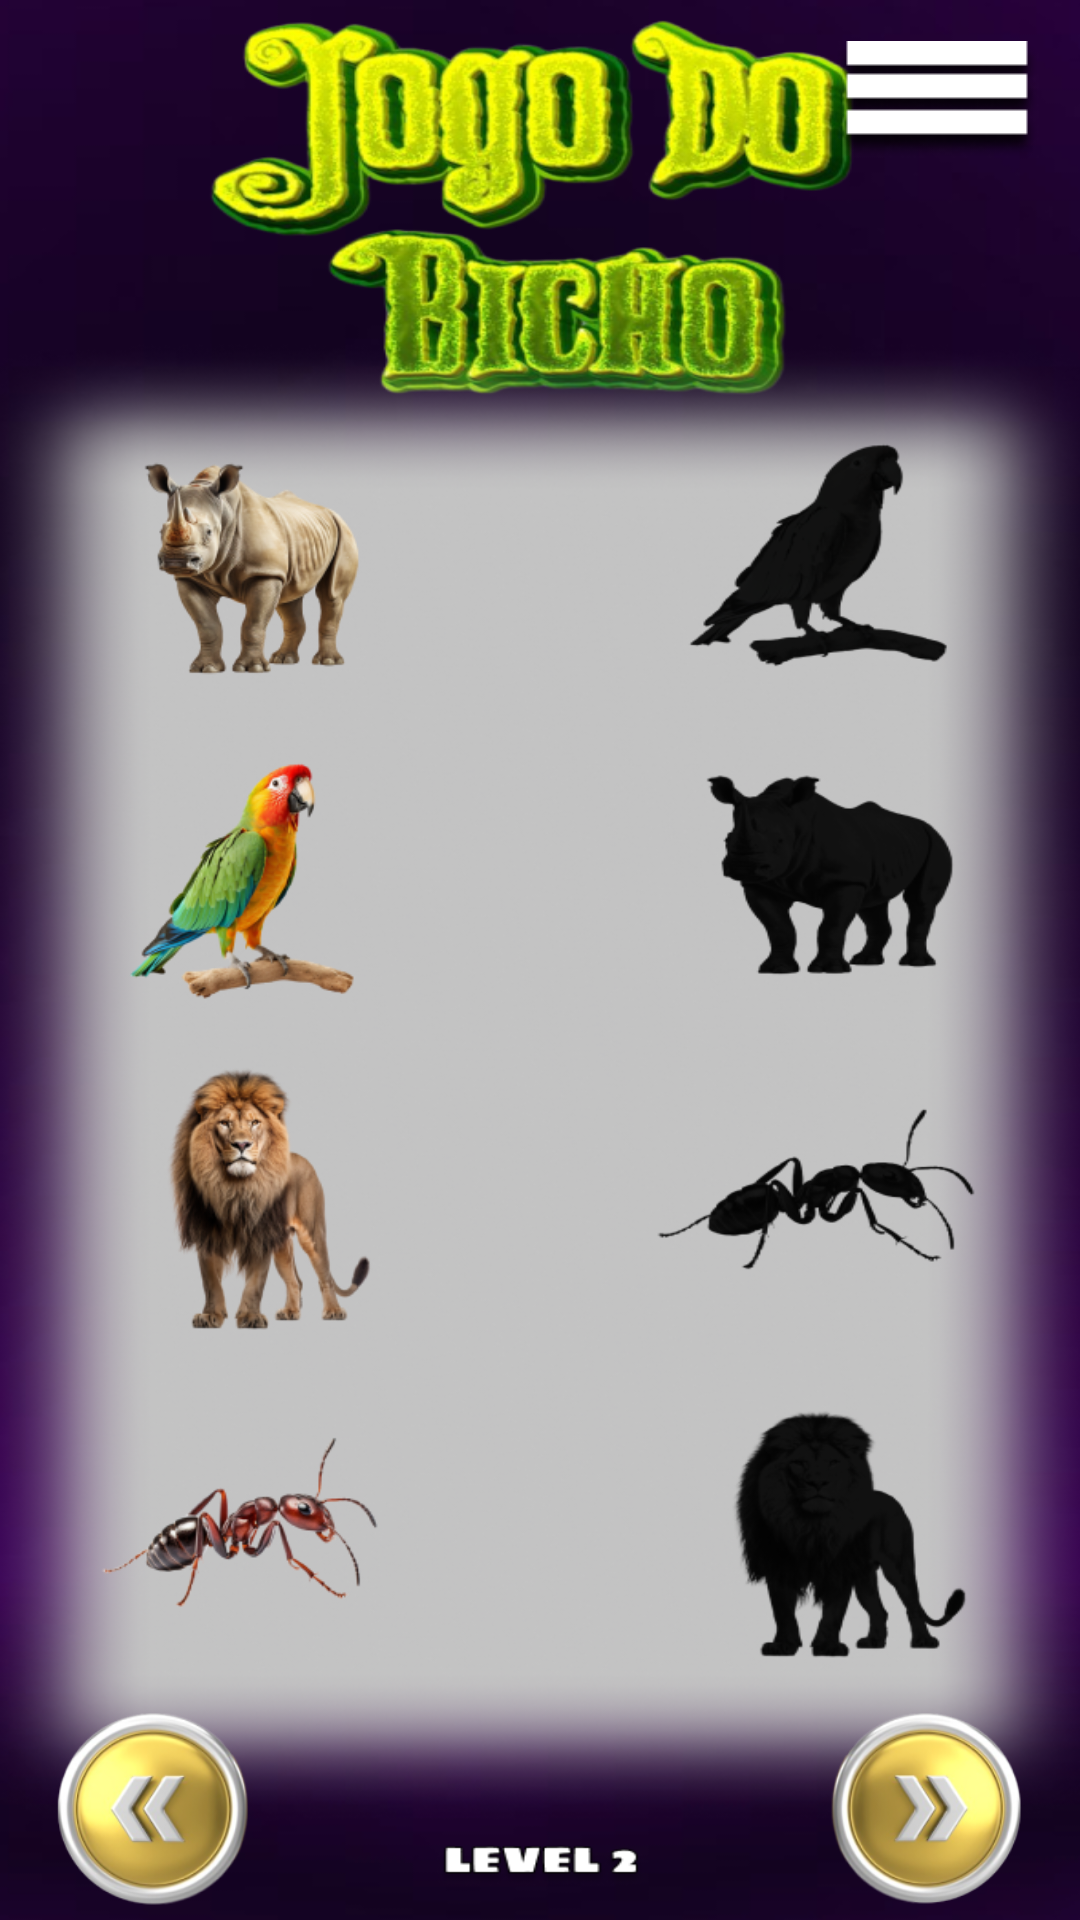

Point at icon controls on the screen. Image size 1080w x 1920h, points as (x,y).
back tap: (151,1809)
next tap: (928,1805)
